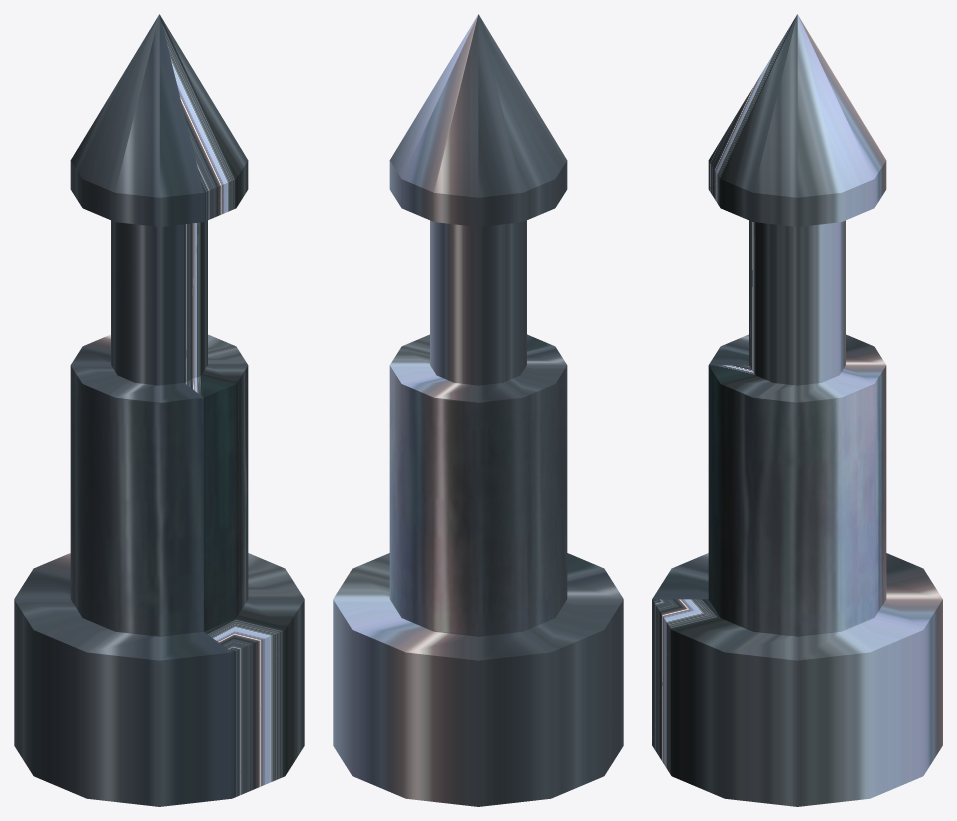
Rendered from PegMetalT6.fbx.
3 views of the same model, side by side, from view 1: azimuth 30°, elevation 25°; view 2: azimuth 150°, elevation 25°; view 3: azimuth 270°, elevation 25° (orthographic).
Parts seen in each view (by area): view 1: PegMetalT6; view 2: PegMetalT6; view 3: PegMetalT6.
Part boxes in pixels (box(x1,y1,x2,y2)): PegMetalT6: box(14, 14, 304, 806); PegMetalT6: box(333, 14, 623, 806); PegMetalT6: box(652, 14, 942, 806).
Bounding box in the file's own units: 0.923 × 2.56 × 0.9233.
Materials: 1 (1 with a texture image).
